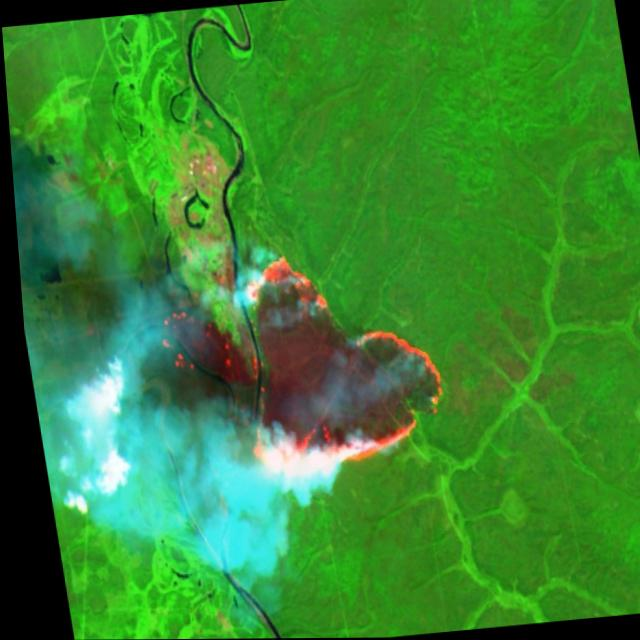fire: (138, 236, 465, 493)
